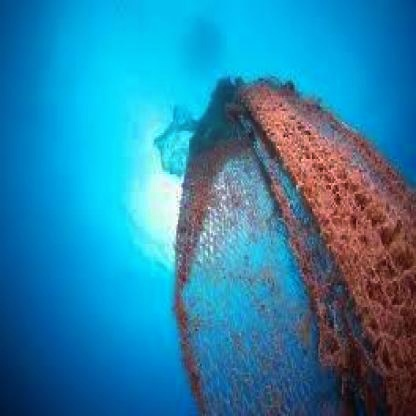net: (175, 76, 416, 416)
